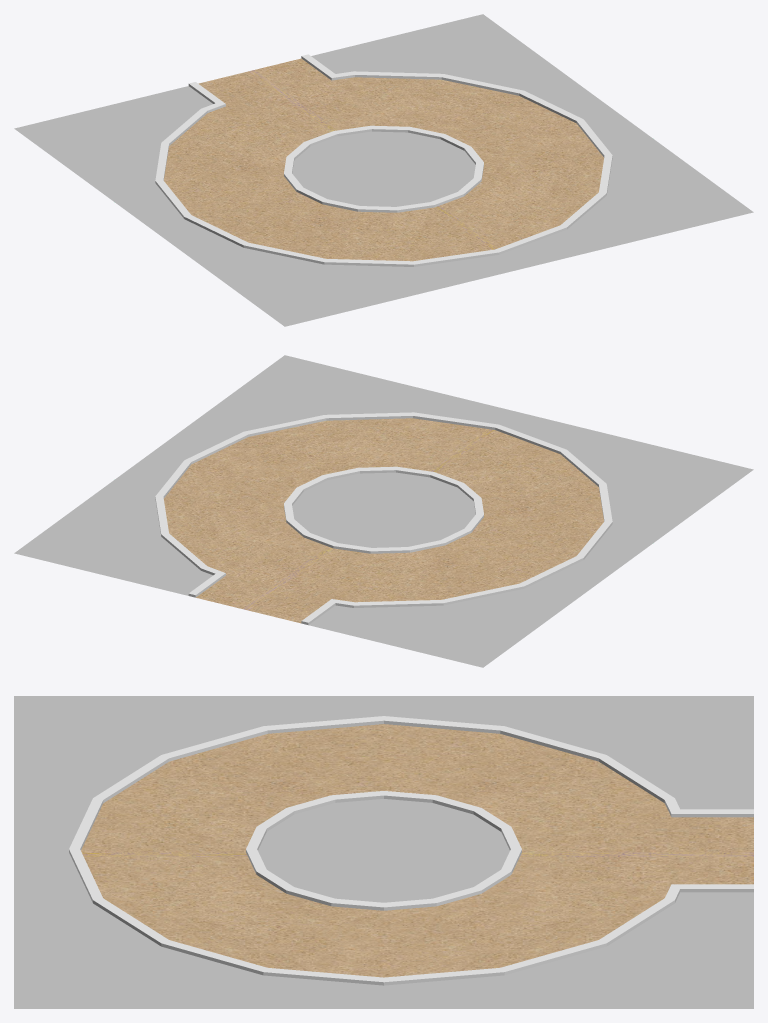
File: Park-Impasse.fbx
3 views of the same model, one above another, from view 1: azimuth 30°, elevation 25°; view 2: azimuth 150°, elevation 25°; view 3: azimuth 270°, elevation 25° (orthographic). The views are drawn at different scales.
Parts seen in each view (by area): view 1: _T_Park-Impasse_BG; view 2: _T_Park-Impasse_BG; view 3: _T_Park-Impasse_BG.
Boxes of the visible parts, box(x1,y1,x2,y2) form: _T_Park-Impasse_BG: box(14, 14, 753, 326); _T_Park-Impasse_BG: box(14, 355, 753, 667); _T_Park-Impasse_BG: box(14, 696, 753, 1008).
Bounding box in the file's own units: 2000 × 10 × 2000.
